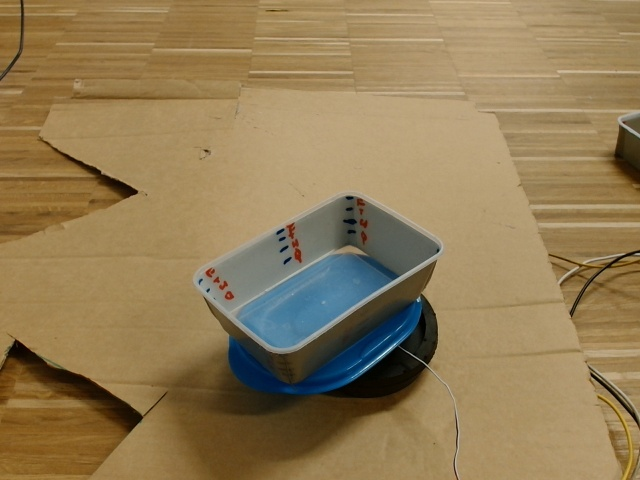Small_zero: (193, 189, 444, 359)
